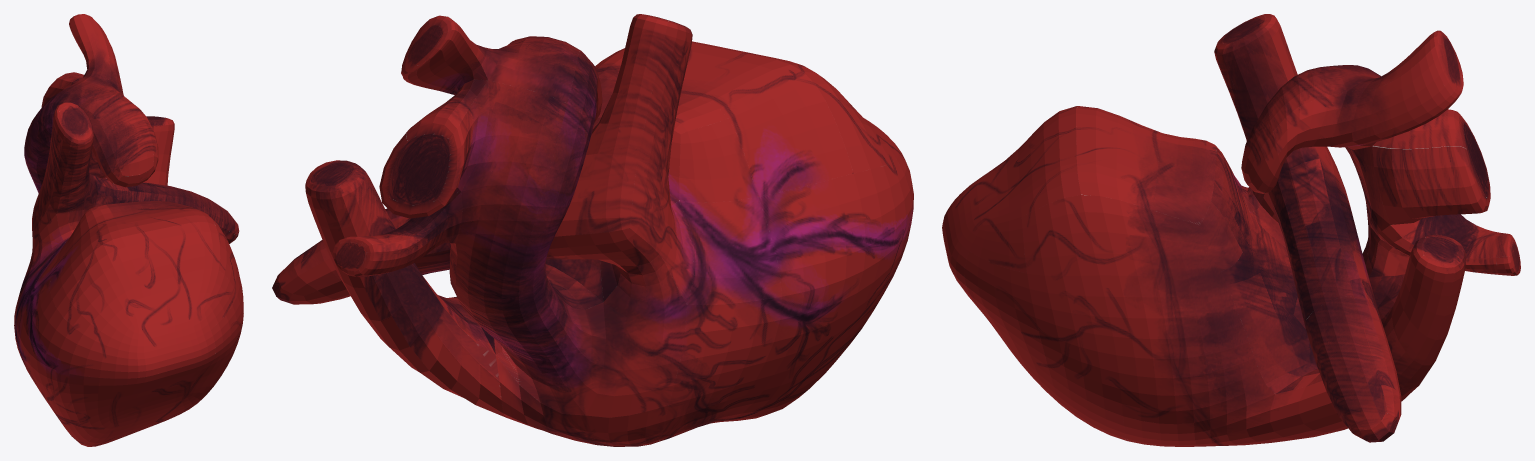
The model's file is heart-stage_1.glb.
3 renders of one model, left to right at view 1: azimuth 30°, elevation 25°; view 2: azimuth 150°, elevation 25°; view 3: azimuth 270°, elevation 25°, orthographic. The views are drawn at different scales.
Visible parts, largest first — view 1: HeartStage1; view 2: HeartStage1; view 3: HeartStage1.
Boxes of the visible parts, left/top/right/bottom form: HeartStage1: left=14, top=14, right=243, bottom=446; HeartStage1: left=272, top=14, right=913, bottom=446; HeartStage1: left=942, top=14, right=1520, bottom=446.
Size of the model in its own units: 2.92 by 2.98 by 3.54.
1 material, 1 textured.
